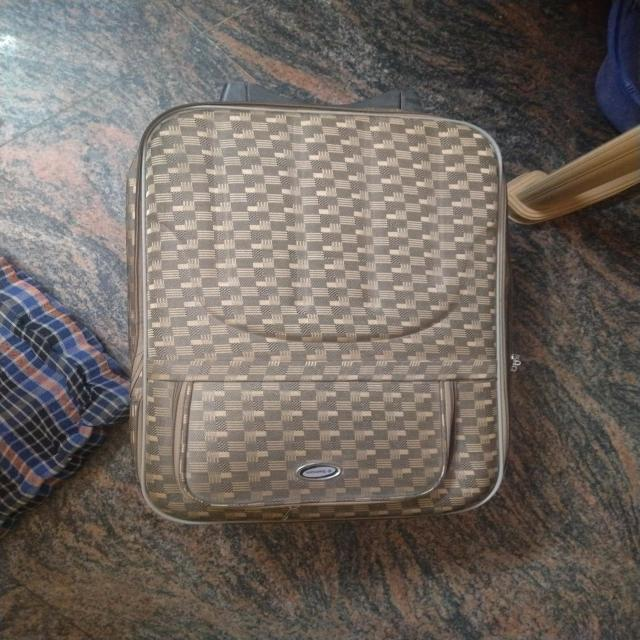luggage: (118, 96, 522, 533)
